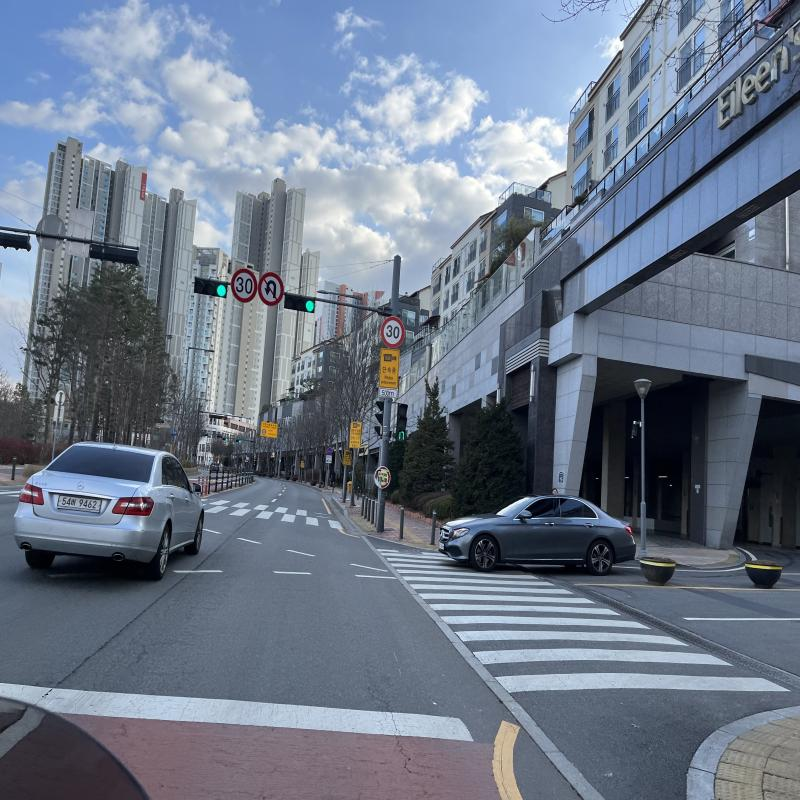green: (216, 285, 228, 298), (305, 300, 315, 313)
